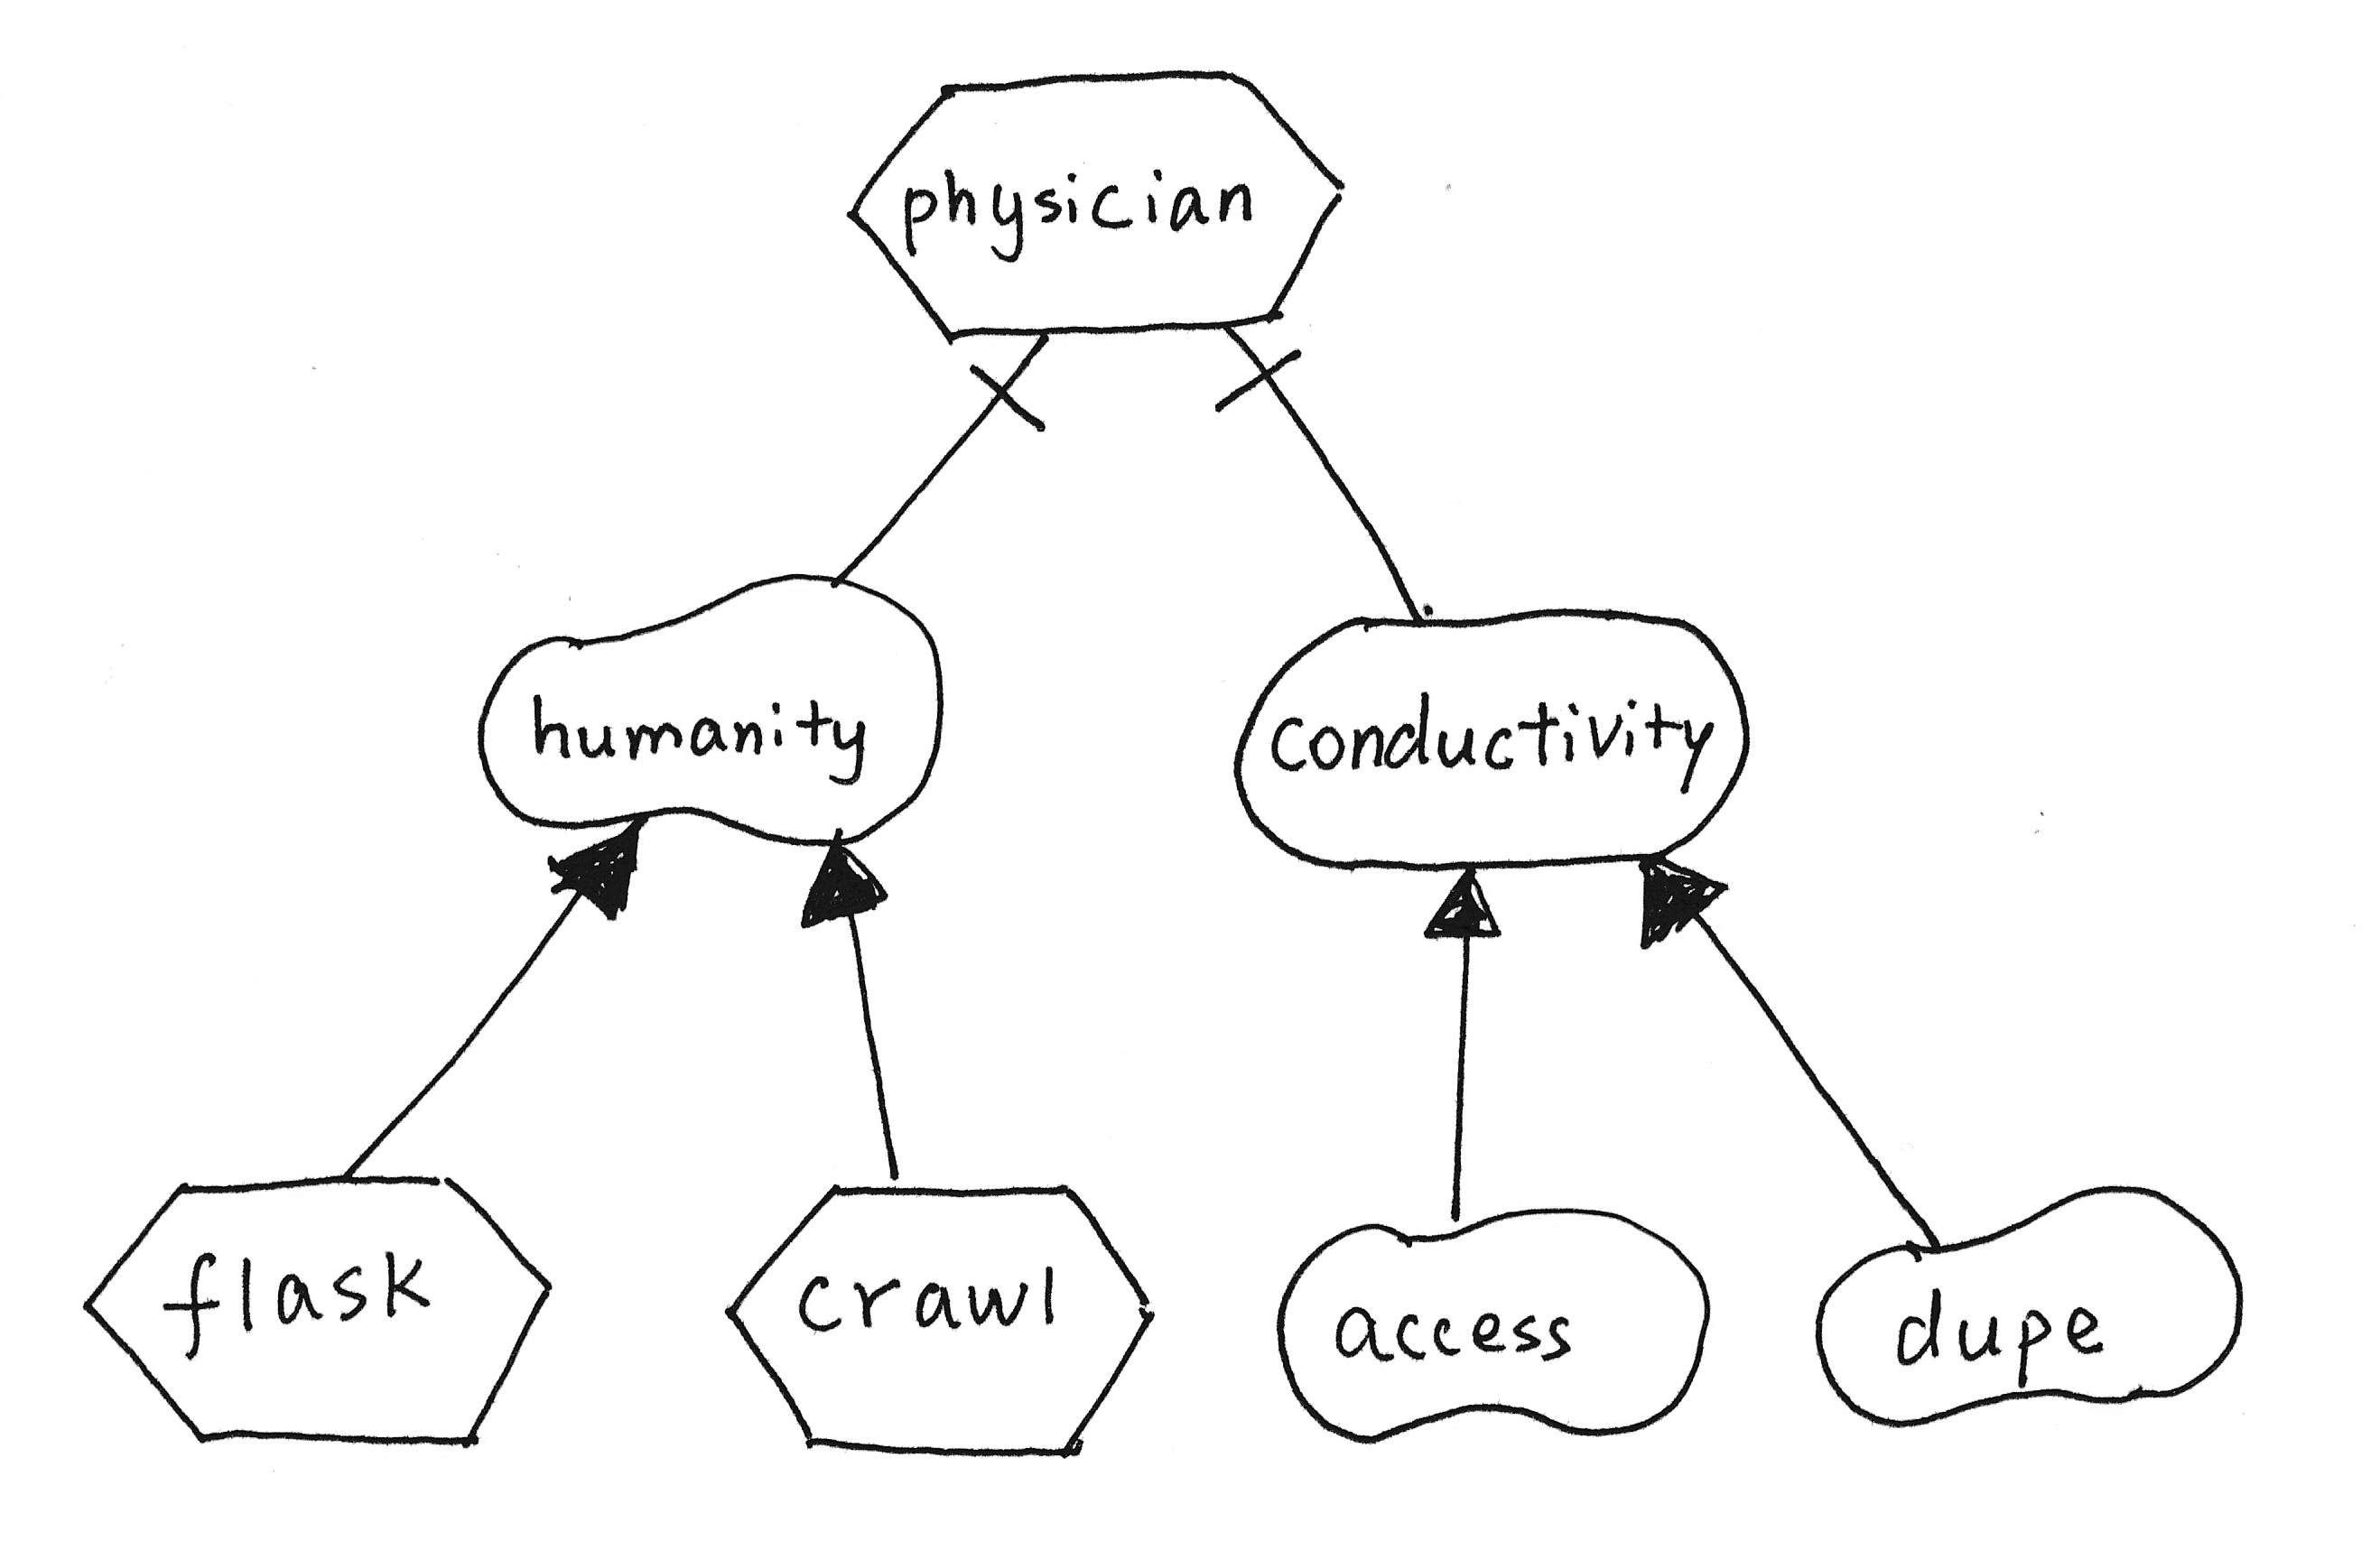and: (956, 319, 1072, 451), (1205, 306, 1325, 428)
goal: (1208, 590, 1771, 897)
or: (534, 801, 658, 933), (1614, 837, 1743, 954), (785, 817, 897, 945), (1415, 851, 1523, 959)
quality: (465, 554, 959, 872), (1795, 1165, 2267, 1445), (1261, 1198, 1727, 1457)
task: (829, 47, 1361, 362), (66, 1153, 566, 1471), (707, 1161, 1173, 1478)
